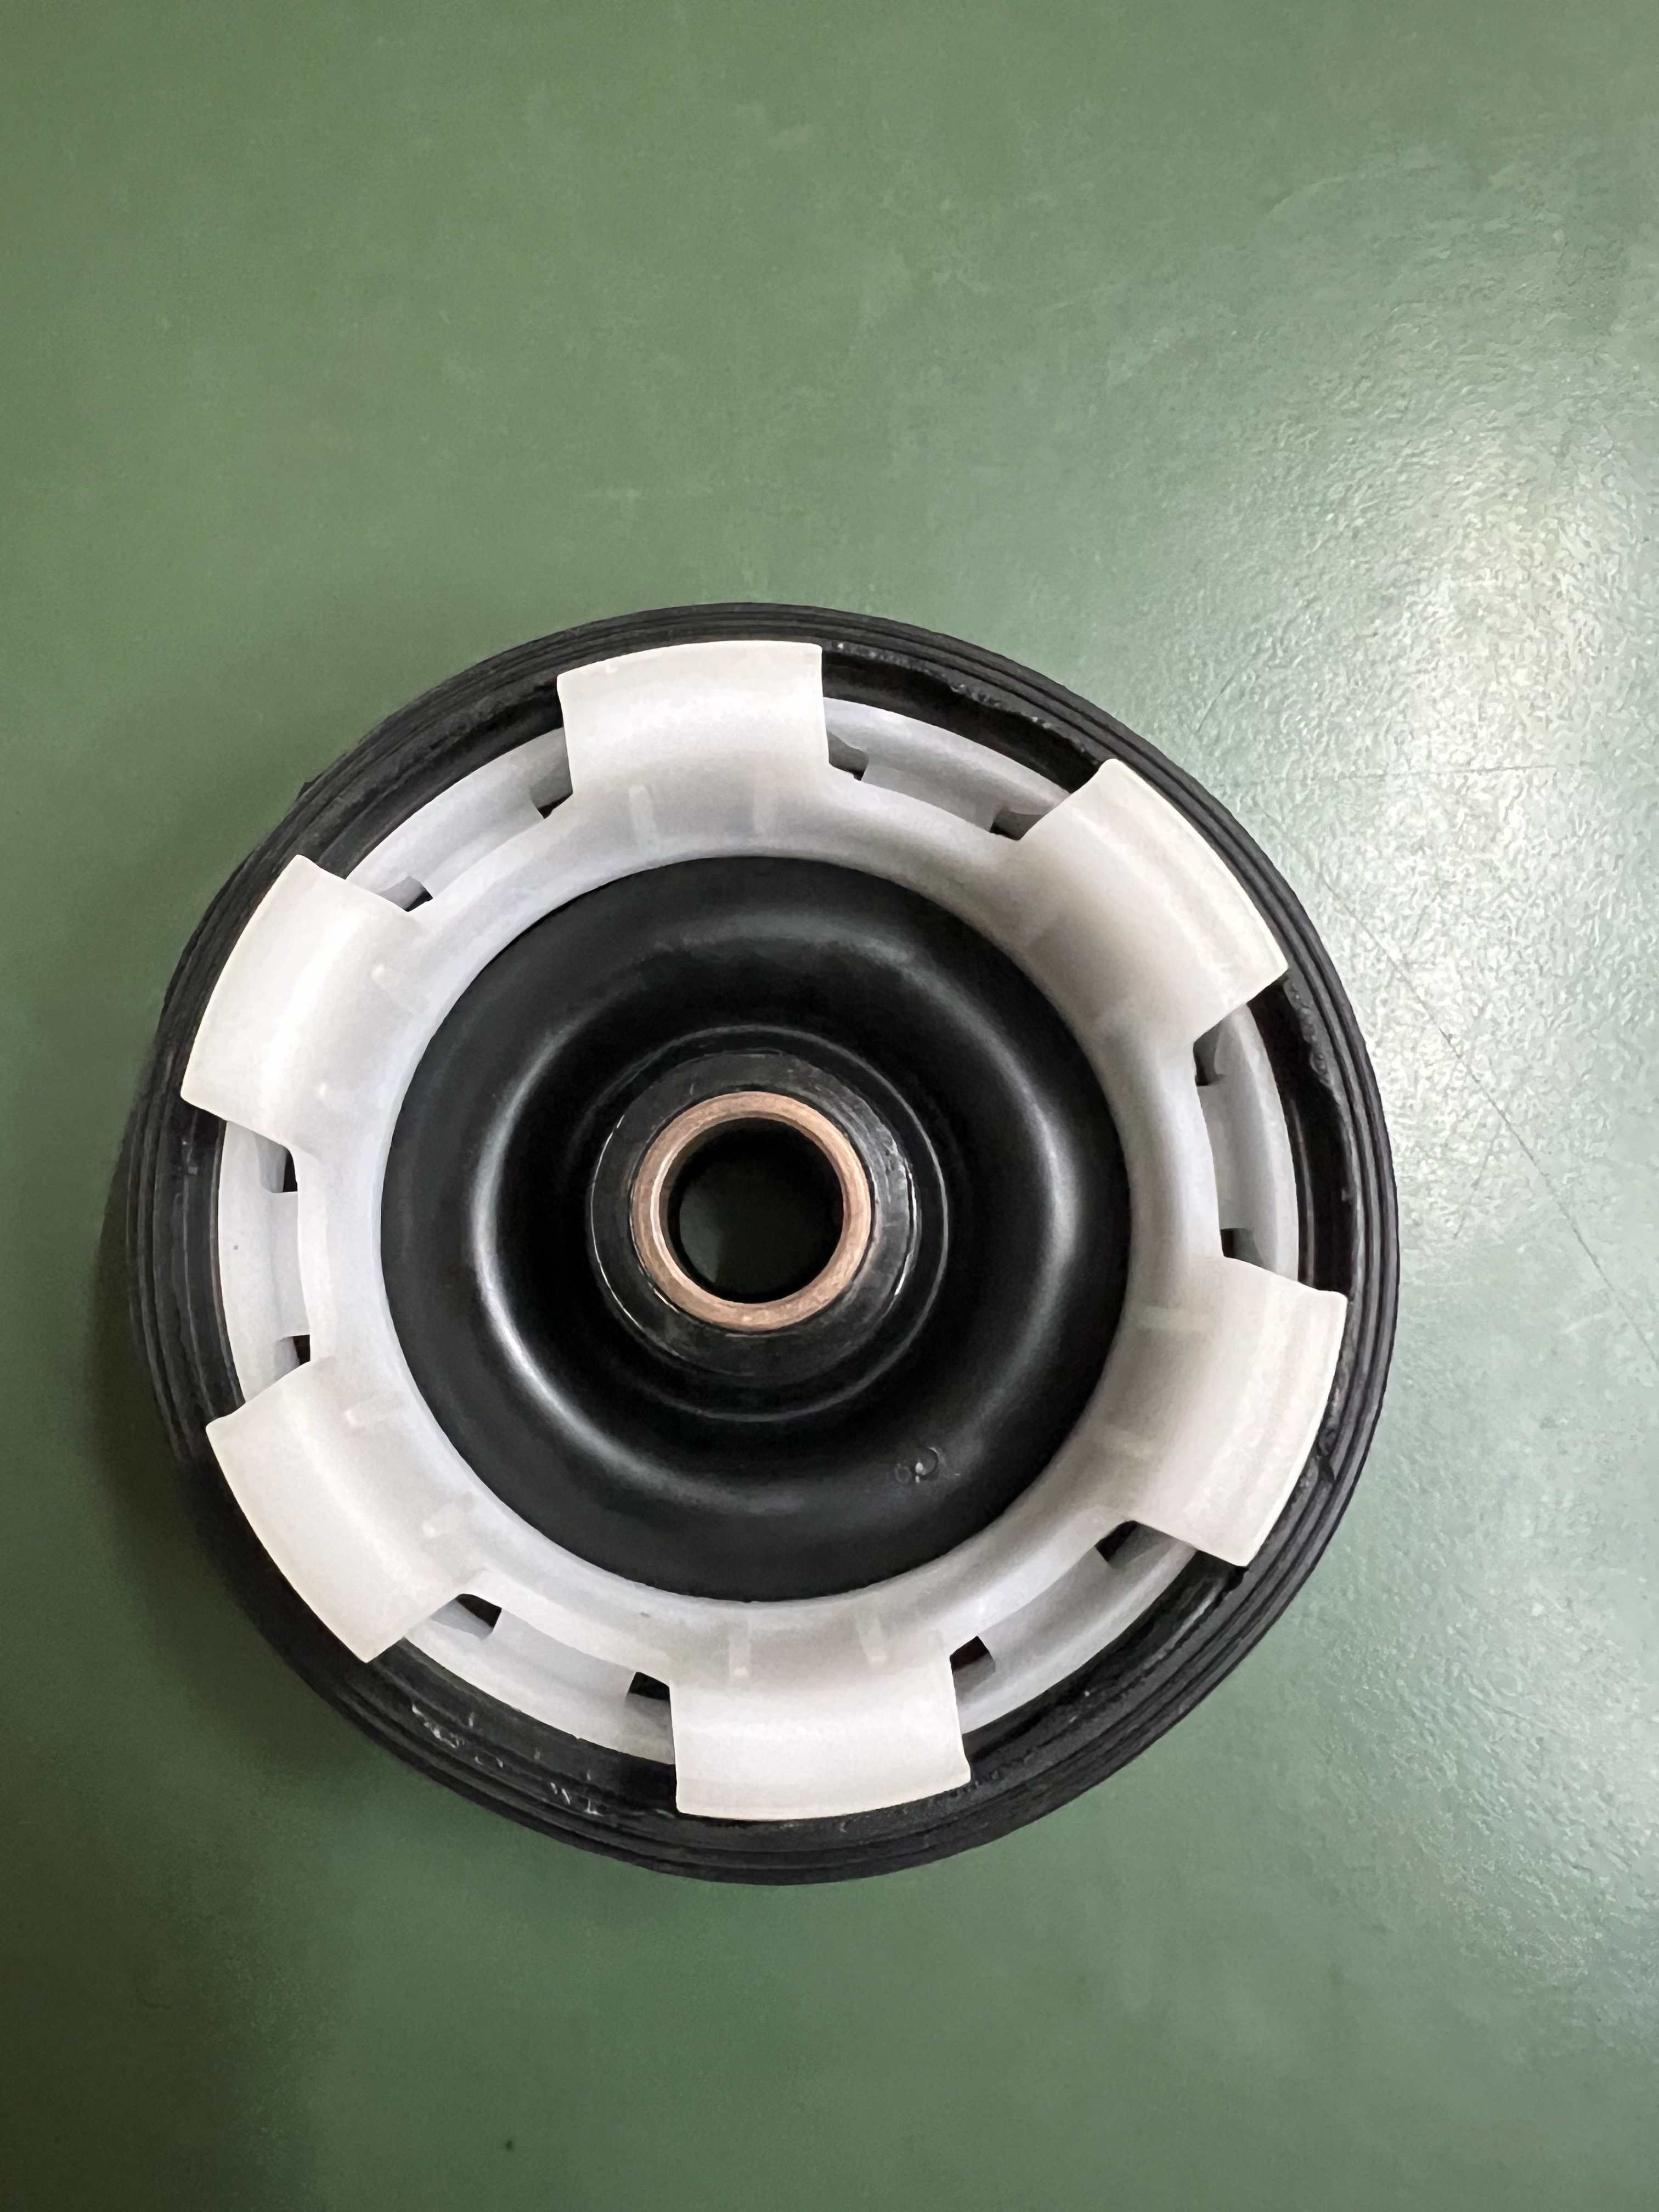lever: (117, 590, 1410, 1919)
